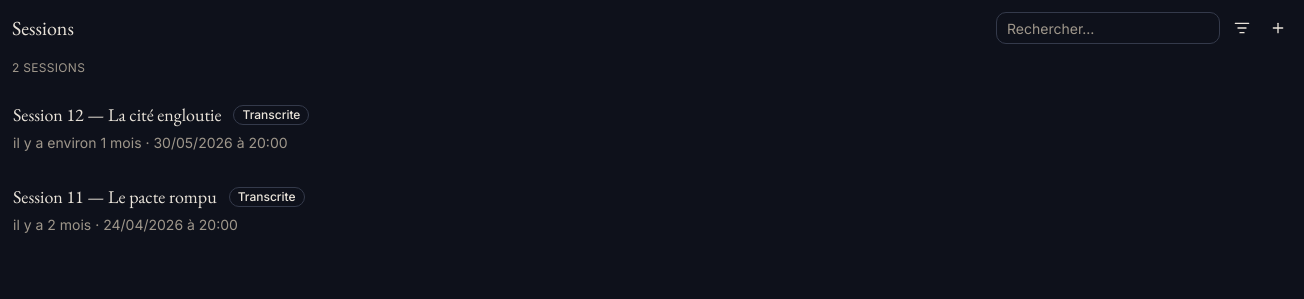
Test: <SessionLibrary> › shows the 'no results' empty state when the search matches nothing
In the search field named "Rechercher une session": (1108, 28) [996, 12, 1220, 44], type "zzzzz"
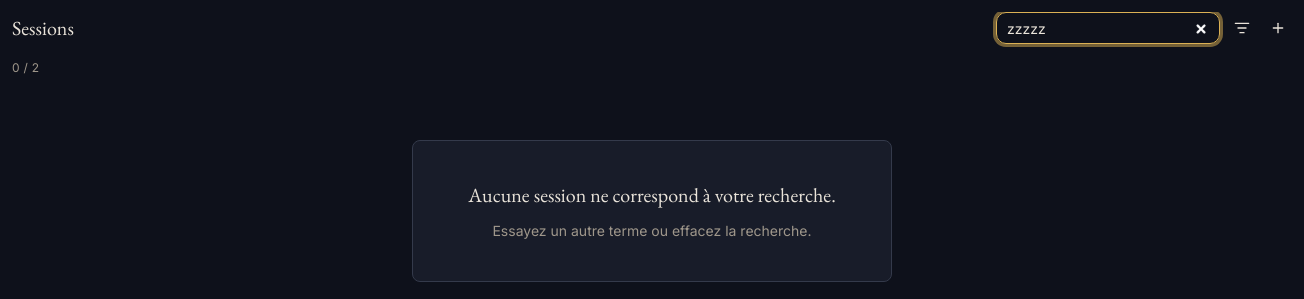
Now the heading "Aucune session ne correspond à votre recherche." is shown, box [468, 181, 836, 209]
Now the text "Aucune session ne correspond à votre recherche." is shown, box [468, 182, 836, 208]
